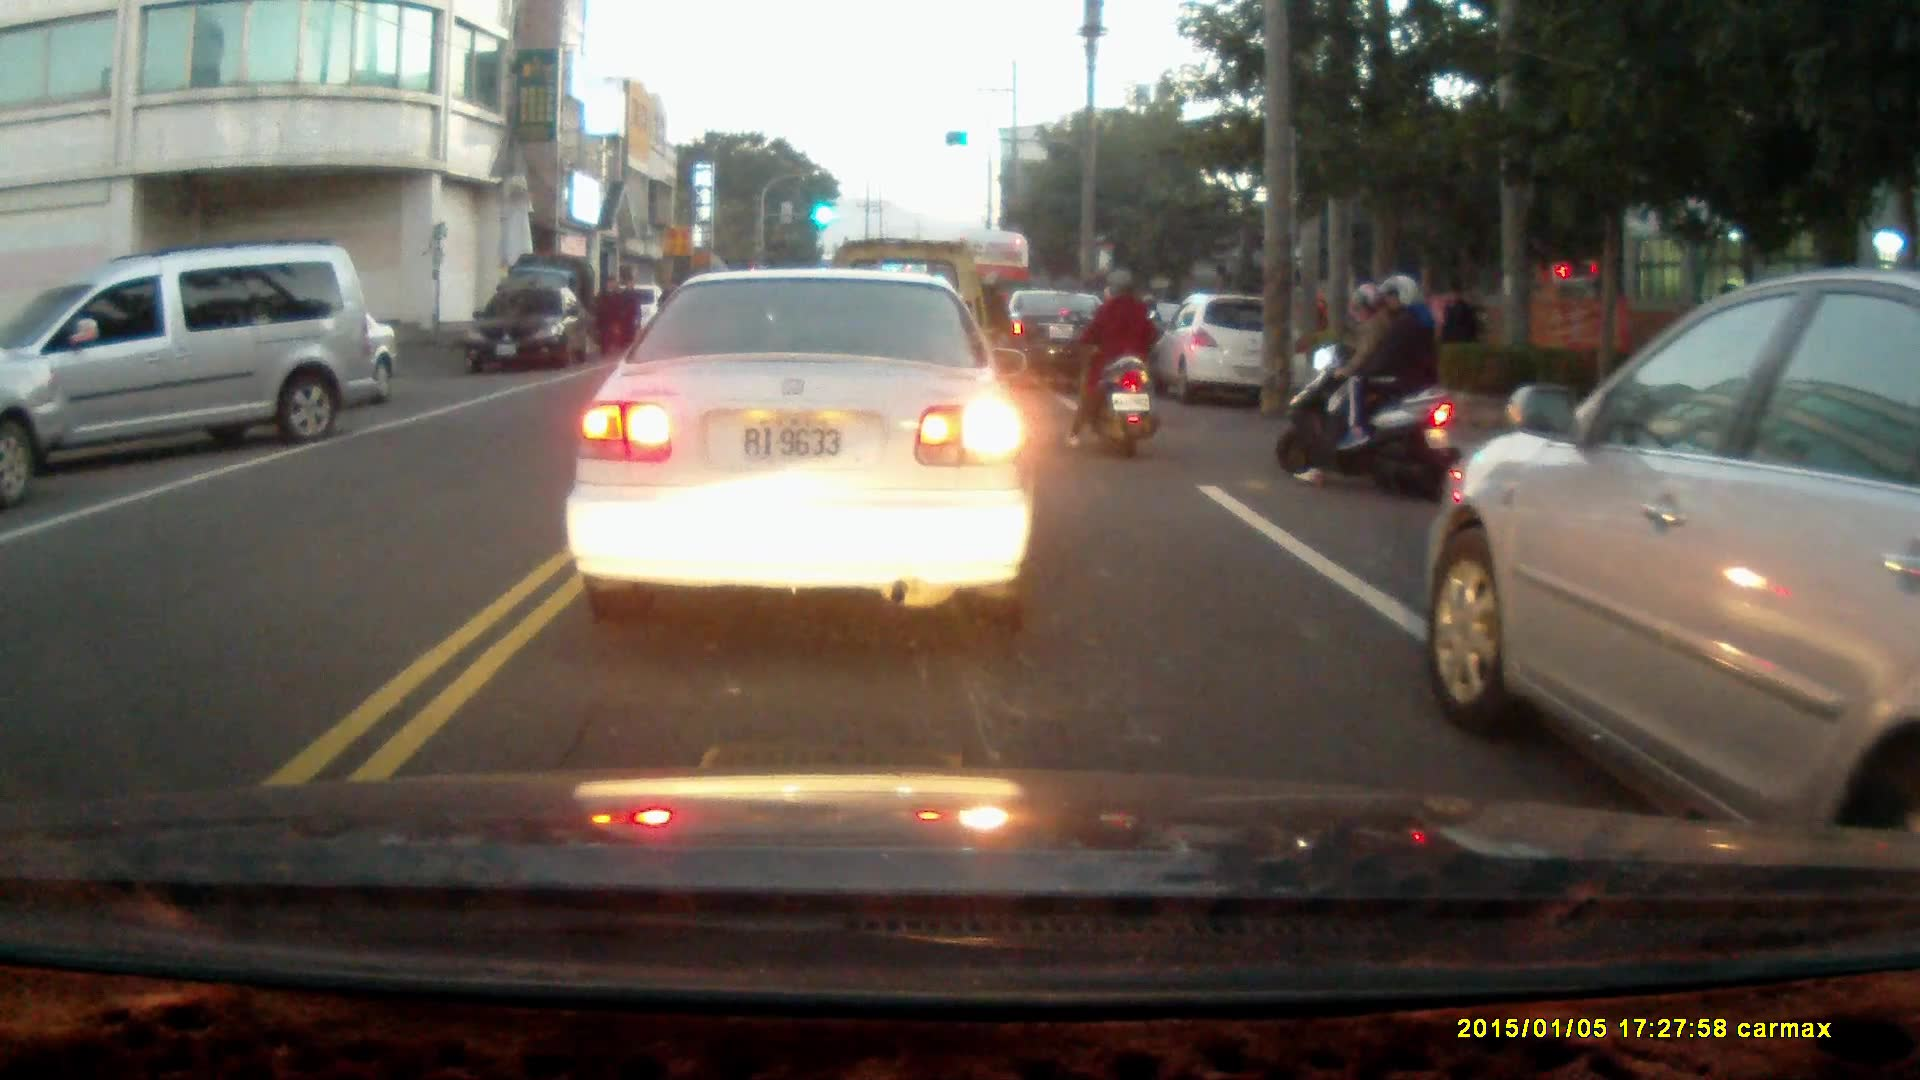pedestrian: (1436, 280, 1479, 378), (592, 274, 624, 360), (615, 273, 642, 356)
rider: (1271, 273, 1457, 495), (1064, 265, 1160, 458), (970, 268, 1024, 389)
vehicle: (1430, 270, 1915, 847), (573, 267, 1043, 620), (1, 244, 381, 476), (1152, 290, 1297, 402), (985, 286, 1123, 393), (1, 347, 72, 503), (477, 283, 593, 374)
